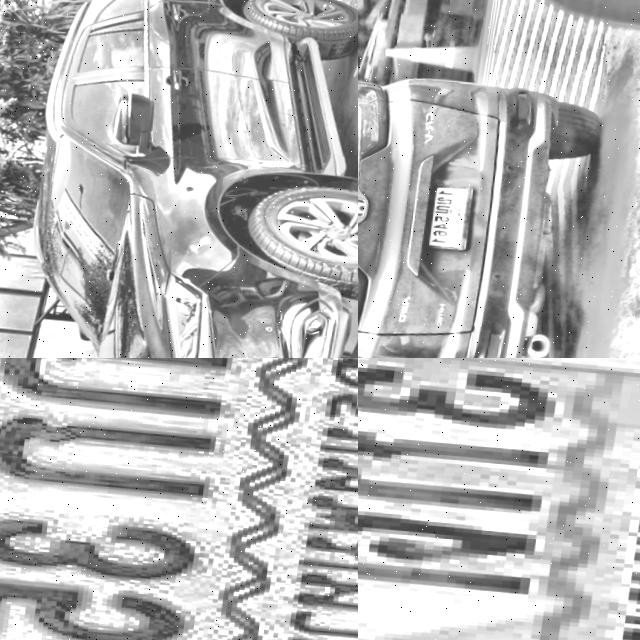license-plate: (0, 358, 358, 640), (358, 358, 640, 640), (425, 177, 478, 249)
